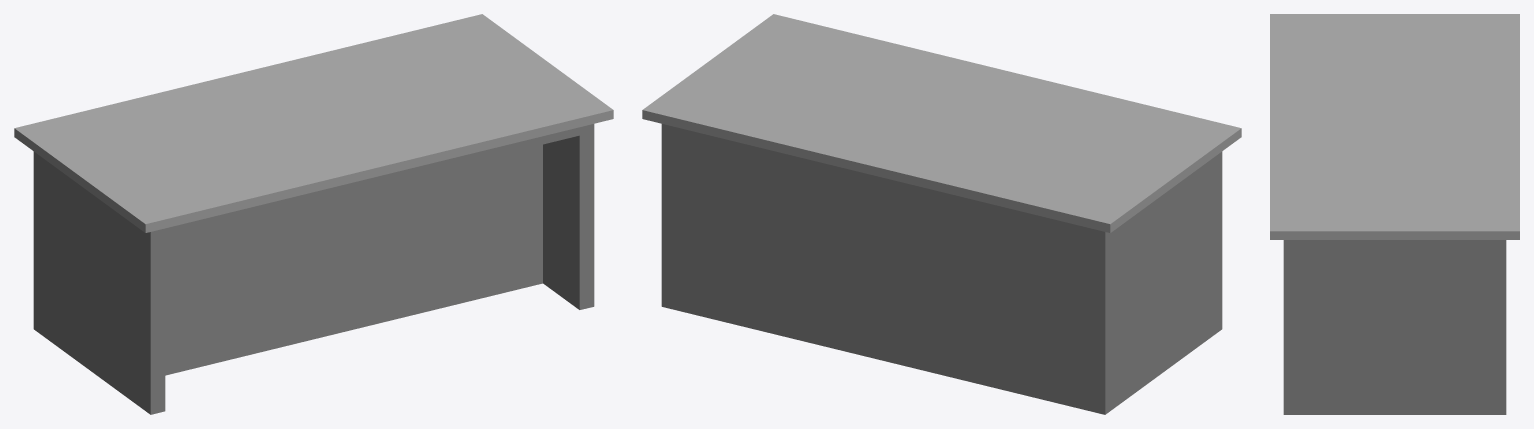
Rendered from Kitchen_Bar_Table_Gray.fbx.
The picture shows the model from 3 angles, left to right: view 1: azimuth 30°, elevation 25°; view 2: azimuth 150°, elevation 25°; view 3: azimuth 270°, elevation 25°; orthographic projection. The views are drawn at different scales.
Visible parts, largest first — view 1: Kitchen_Bar_Table_Gray; view 2: Kitchen_Bar_Table_Gray; view 3: Kitchen_Bar_Table_Gray.
Part boxes in pixels (bbox=[...]): Kitchen_Bar_Table_Gray: bbox=[14, 14, 613, 414]; Kitchen_Bar_Table_Gray: bbox=[642, 14, 1241, 414]; Kitchen_Bar_Table_Gray: bbox=[1270, 14, 1519, 414].
Bounding box in the file's own units: 204 × 82.98 × 99.19.
